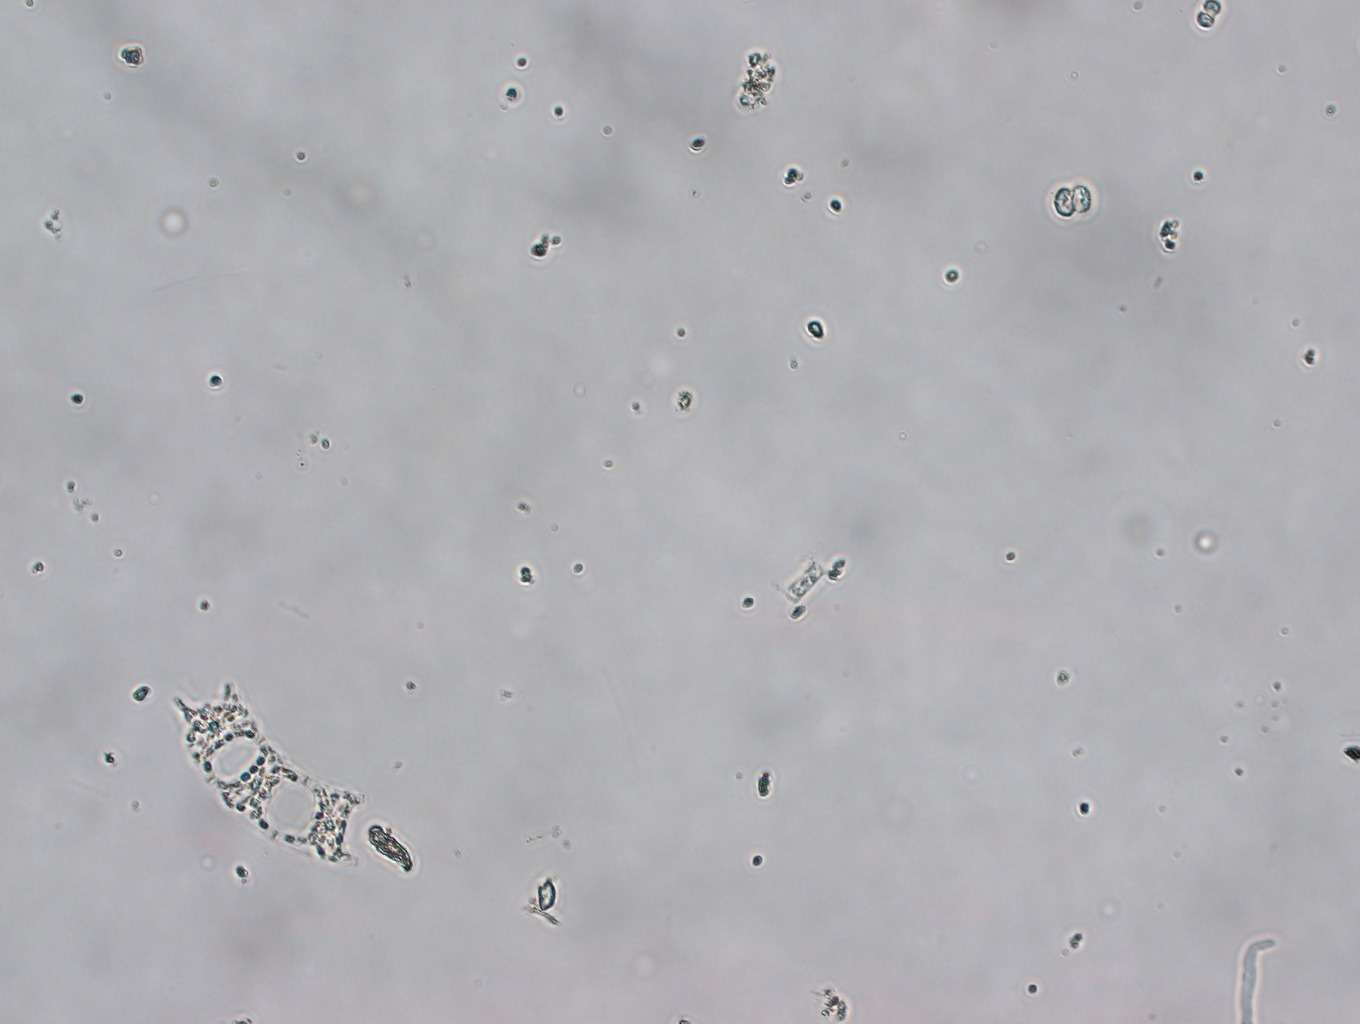eucampia: (163, 672, 368, 877)
